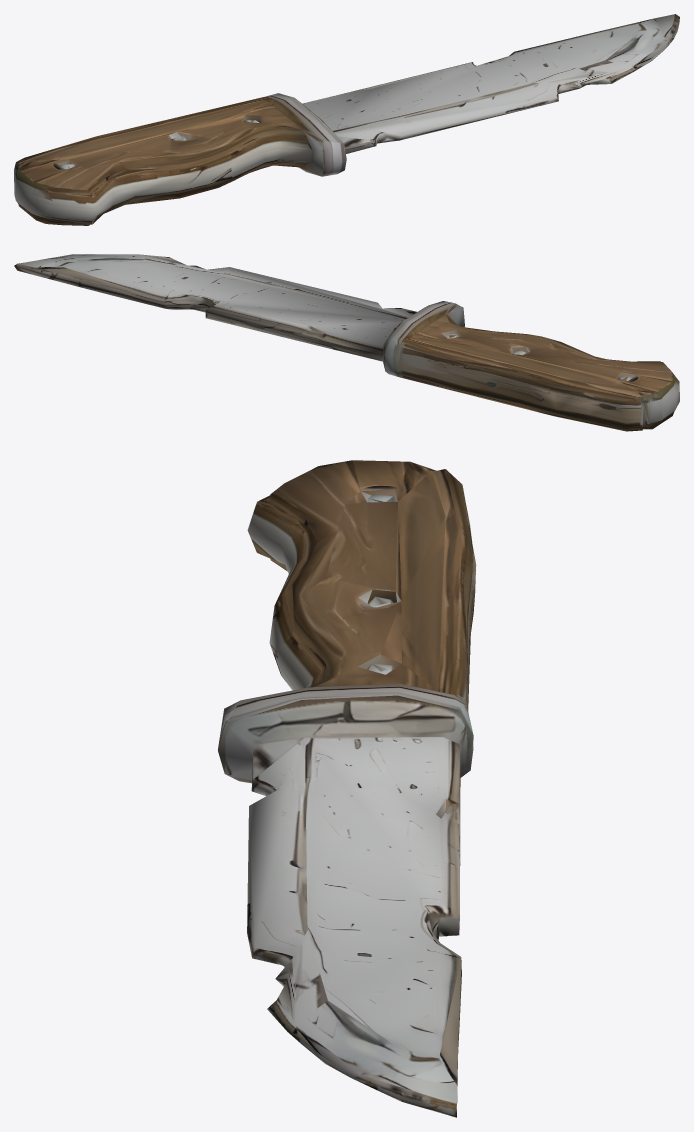
3 renders of one model, top to bottom at view 1: azimuth 30°, elevation 25°; view 2: azimuth 150°, elevation 25°; view 3: azimuth 270°, elevation 25°, orthographic. The views are drawn at different scales.
Parts seen in each view (by area): view 1: texture_pbr_v128; view 2: texture_pbr_v128; view 3: texture_pbr_v128.
Part boxes in pixels (x1,y1,x2,y2): texture_pbr_v128: (14, 14, 679, 225); texture_pbr_v128: (14, 254, 679, 431); texture_pbr_v128: (218, 460, 476, 1117).
Bounding box in the file's own units: 119 × 9.08 × 20.86.
Materials: 1 (1 with a texture image).
